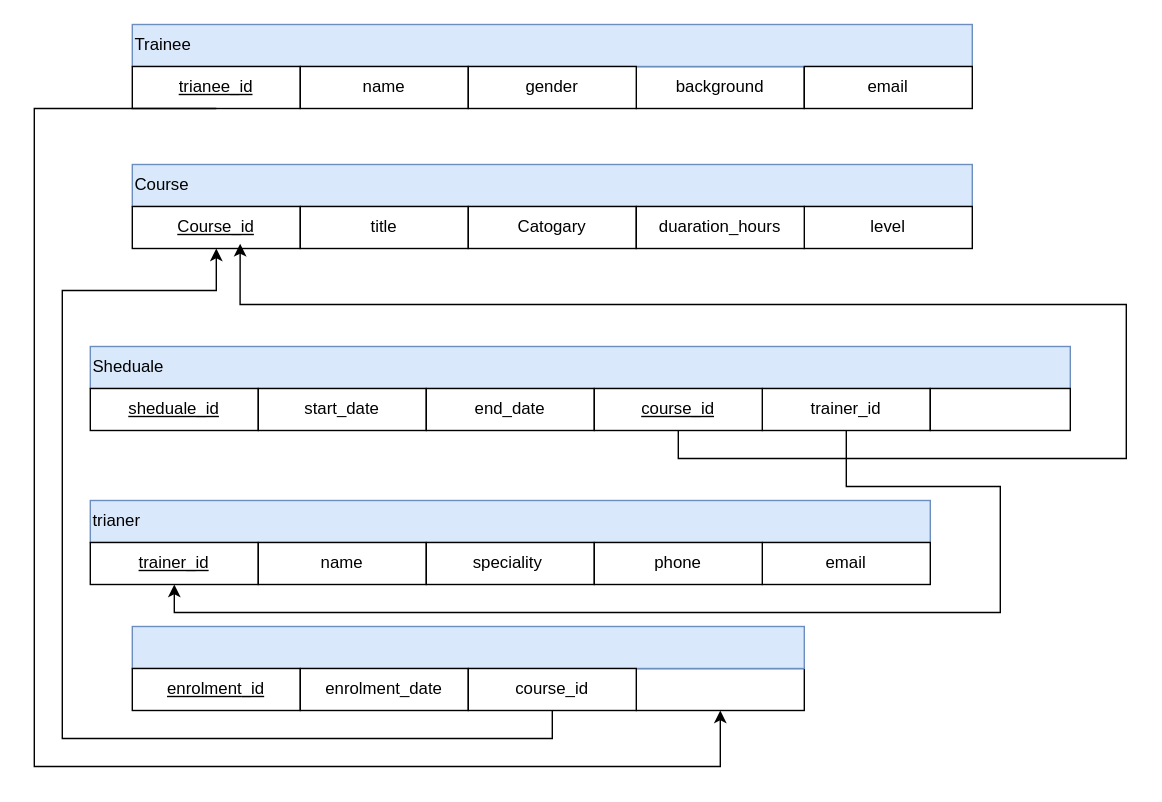
The diagram is 1162 pixels wide and 802 high, and some of its shapes have lost their labels. The shapes that lost their labels are listed below. From the top down, each one's centre as x and y in pixels, then its label:
the point at 999,408: timeslot
the point at 467,646: enrolment
the point at 719,688: trainee_id
